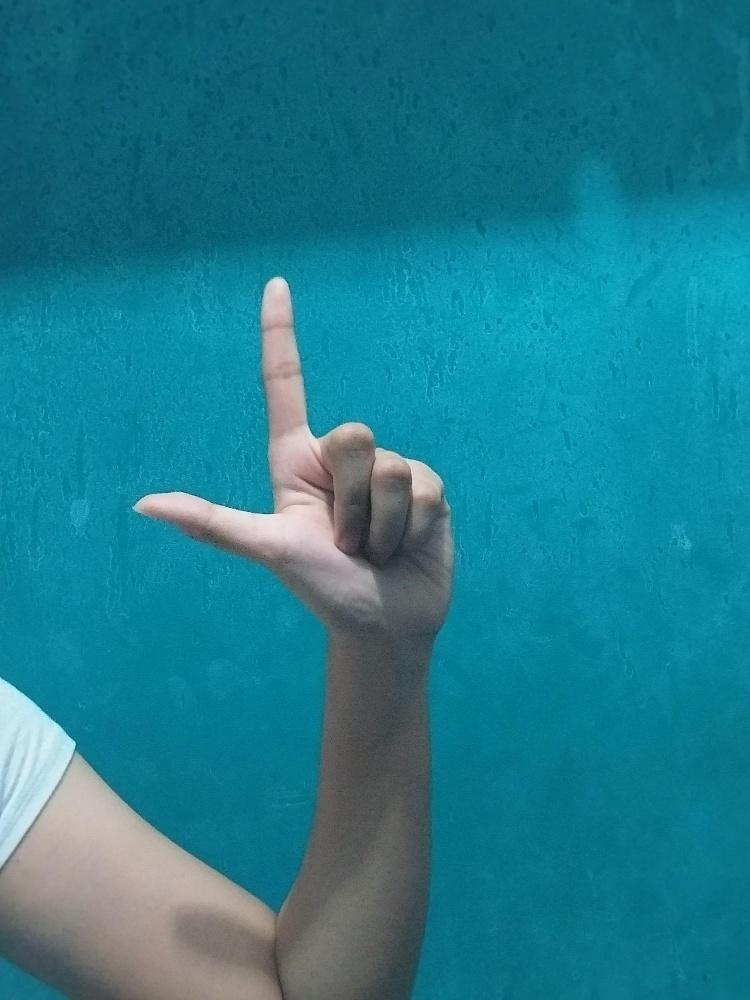l: (130, 269, 459, 638)
